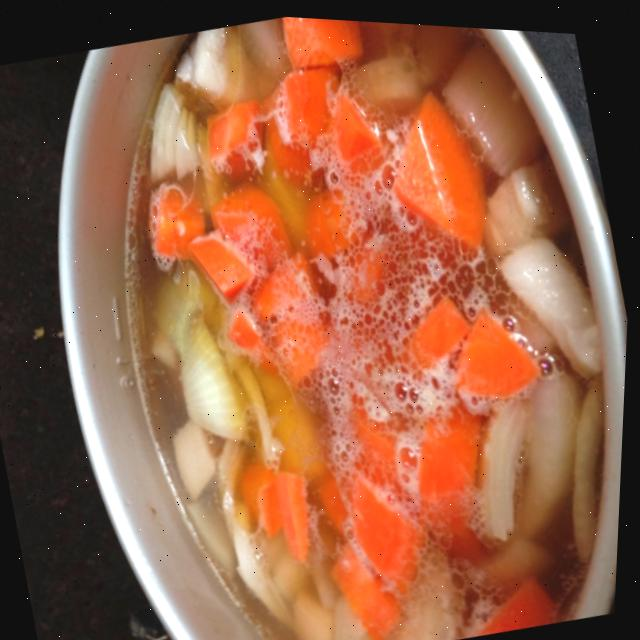汤锅炖物: (38, 3, 640, 640)
